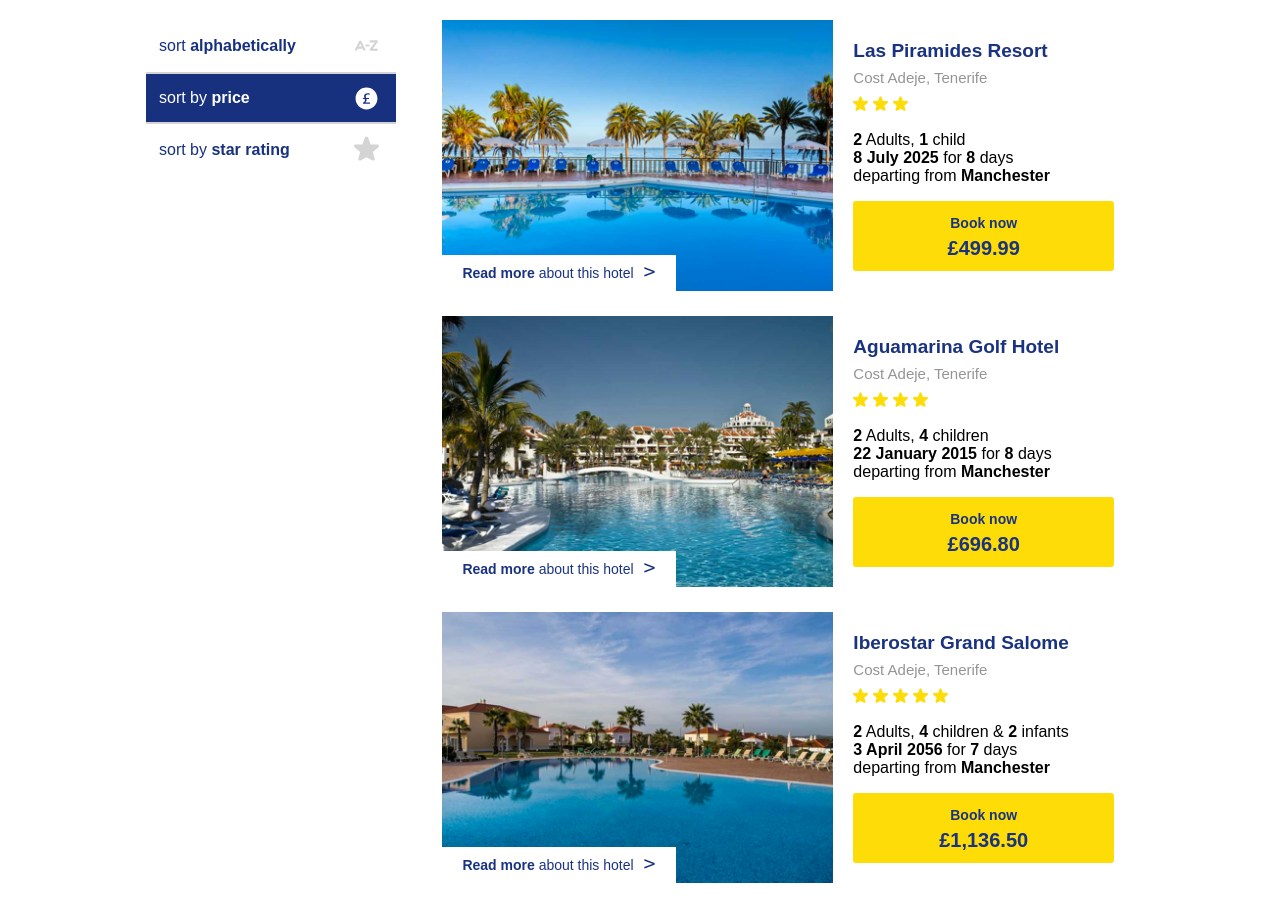
it: SortableInfoCards › changes sorting option when price alphabetical SortButton is clicked
Step 1. Click the button with test id "sort-alphabetical" → click(271, 46), box top-left (146, 20), bottom-right (396, 72)
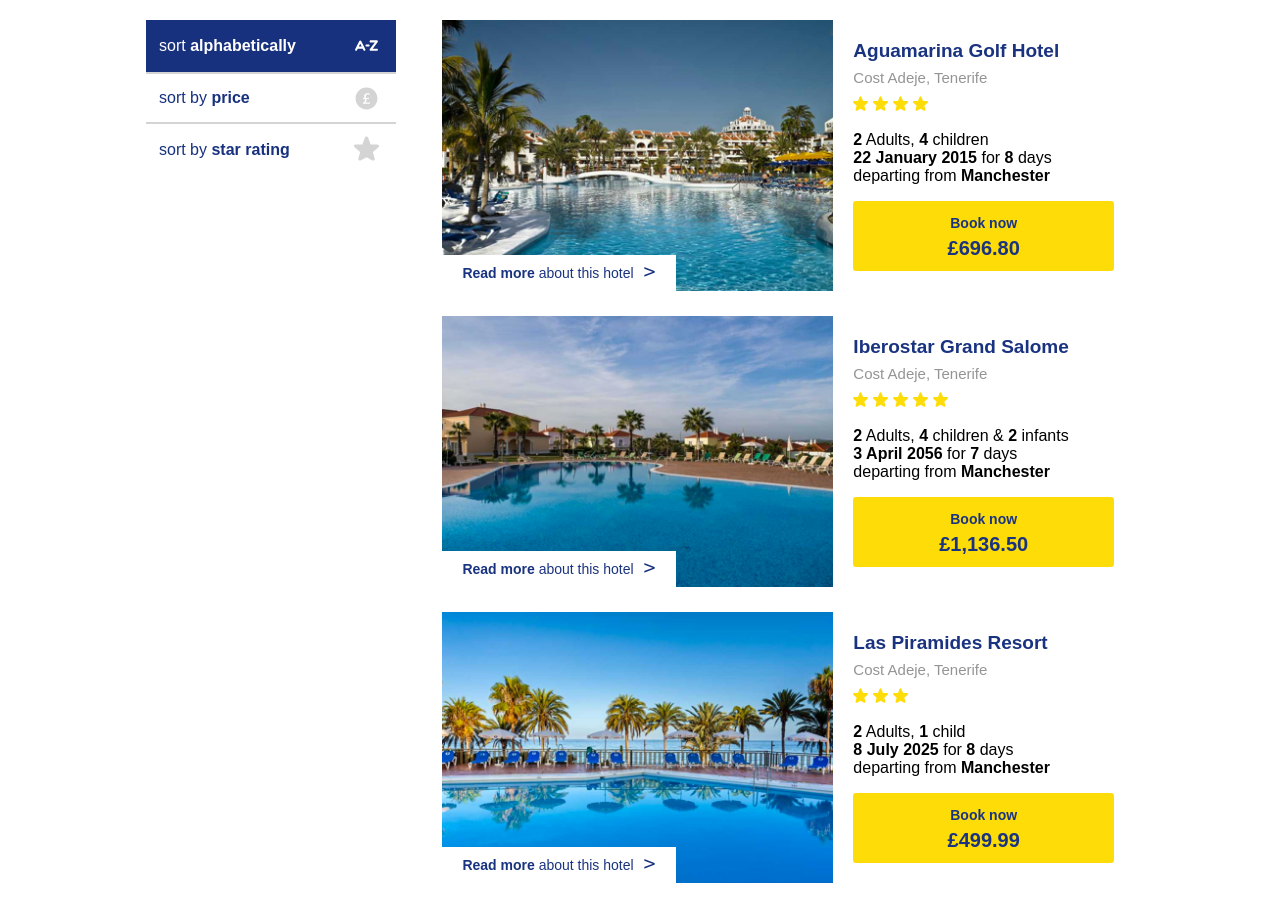
Expected: the elements with test id "hotelName" read "Aguamarina Golf Hotel", "Iberostar Grand Salome", "Las Piramides Resort", in this order, top-left (853, 40), bottom-right (1059, 61); top-left (853, 336), bottom-right (1069, 357); top-left (853, 632), bottom-right (1048, 653)
